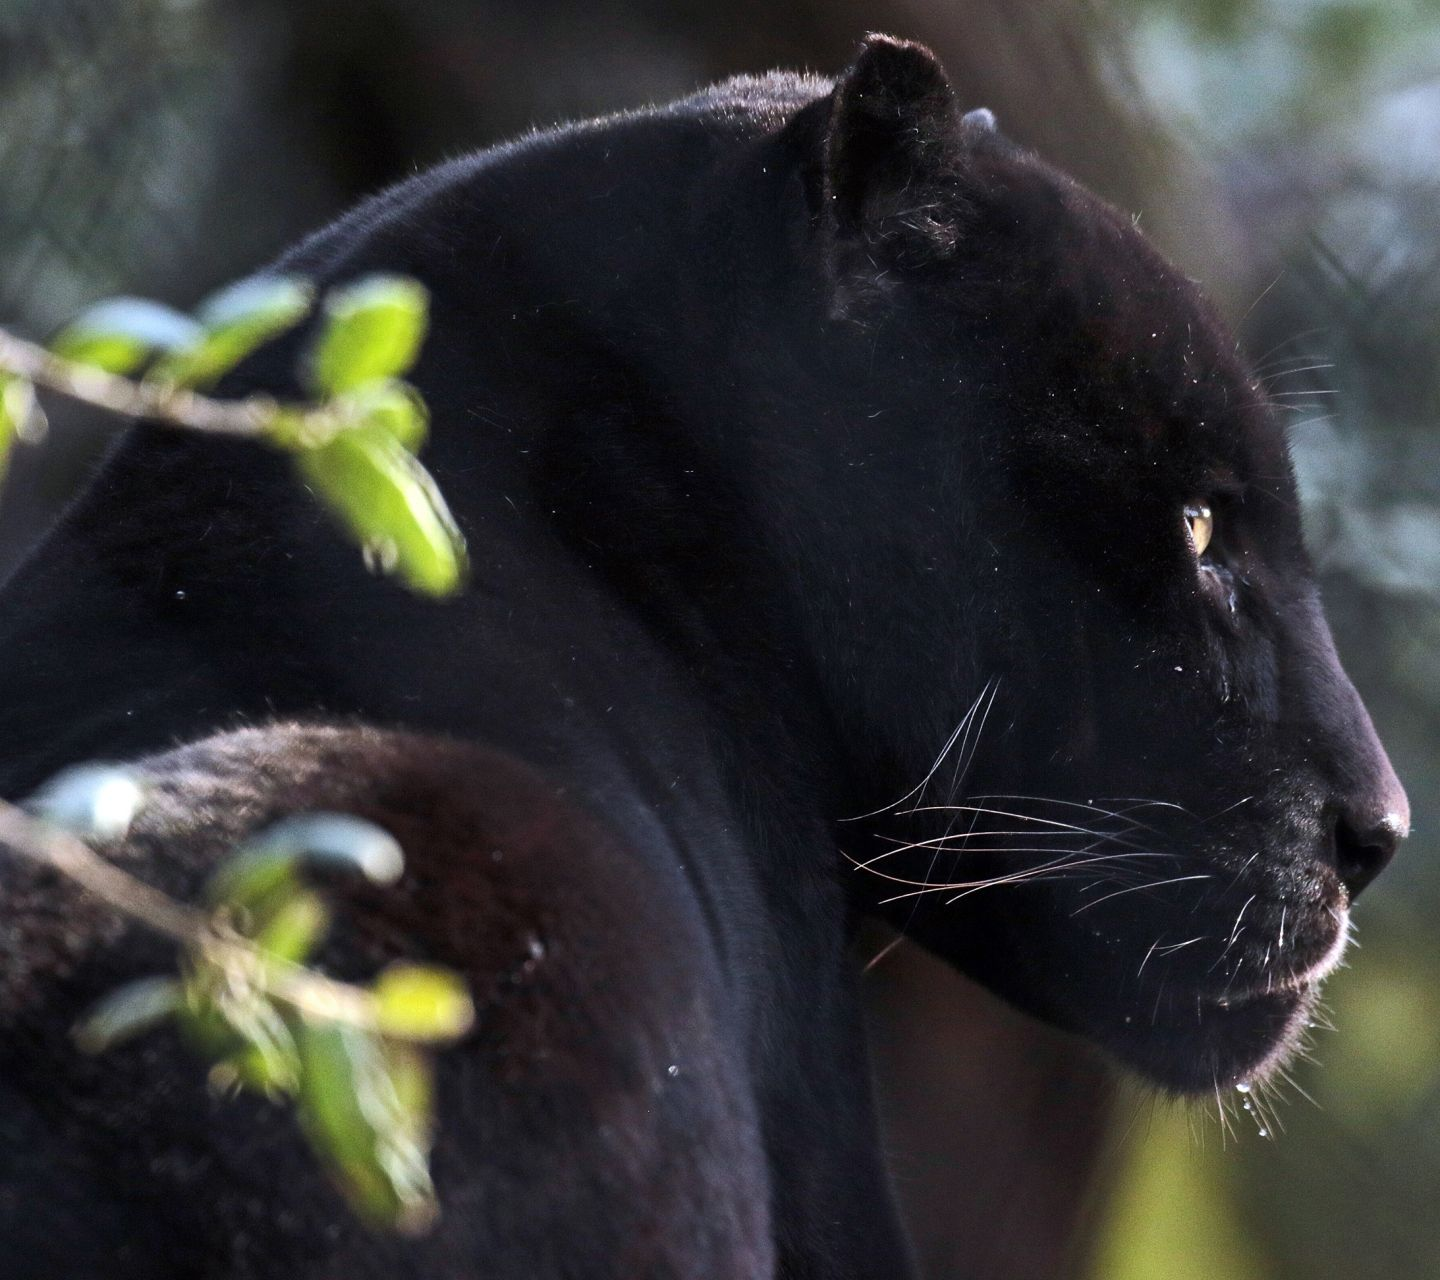panther: (498, 26, 1440, 1147)
